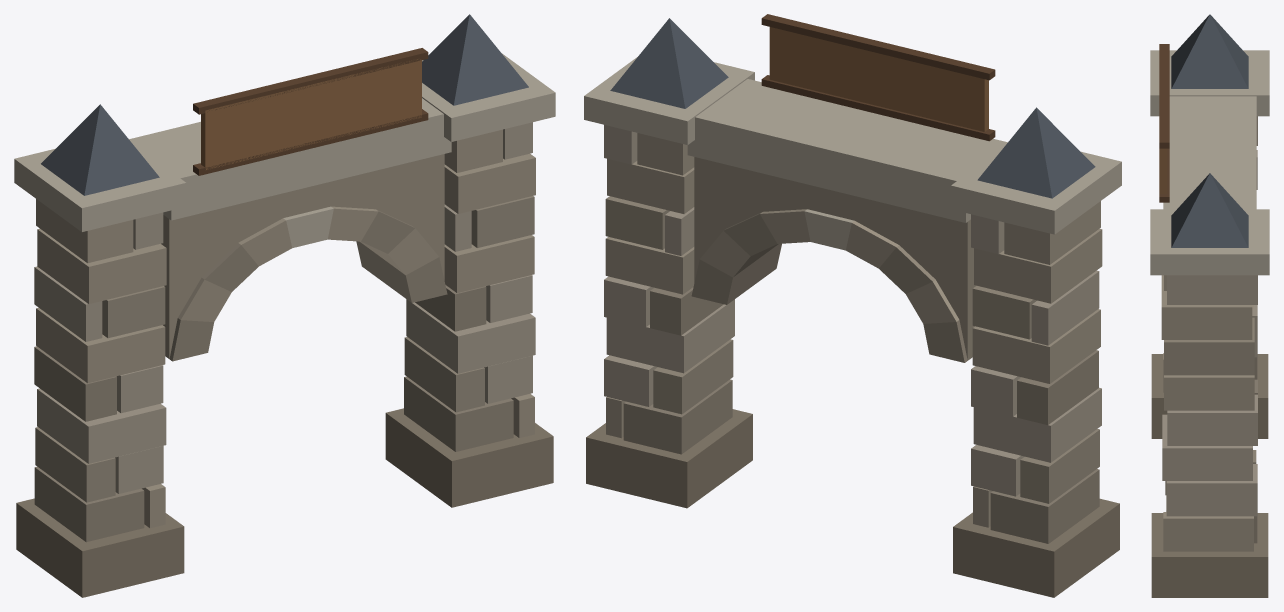
The model's file is gate_arch.glb.
3 views of the same model, side by side, from view 1: azimuth 30°, elevation 25°; view 2: azimuth 150°, elevation 25°; view 3: azimuth 270°, elevation 25° (orthographic). The views are drawn at different scales.
Parts seen in each view (by area): view 1: gate_arch; view 2: gate_arch; view 3: gate_arch.
Boxes of the visible parts, x1,y1,x2,y2 form: gate_arch: (14,14,555,597); gate_arch: (584,14,1121,597); gate_arch: (1150,14,1269,597).
Size of the model in its own units: 3.72 by 3.43 by 0.92.
